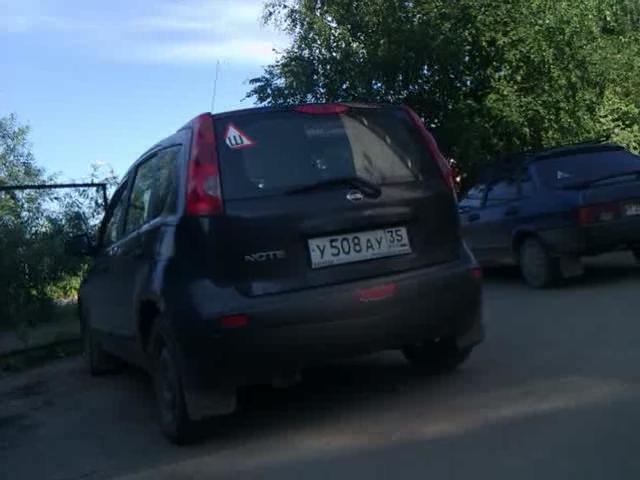car license plate: (305, 221, 412, 270)
